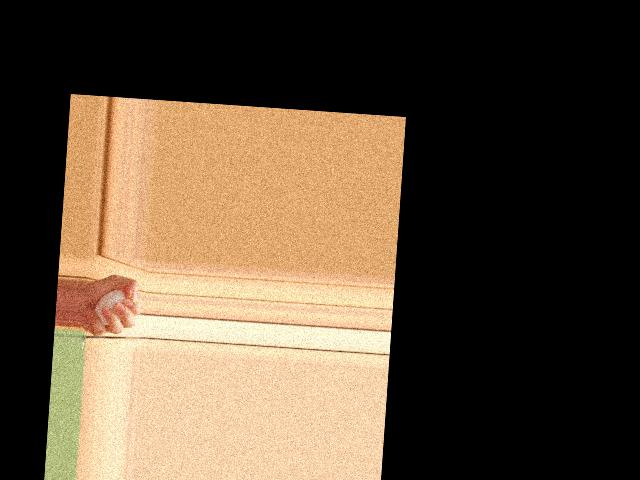egg: (93, 288, 125, 327)
